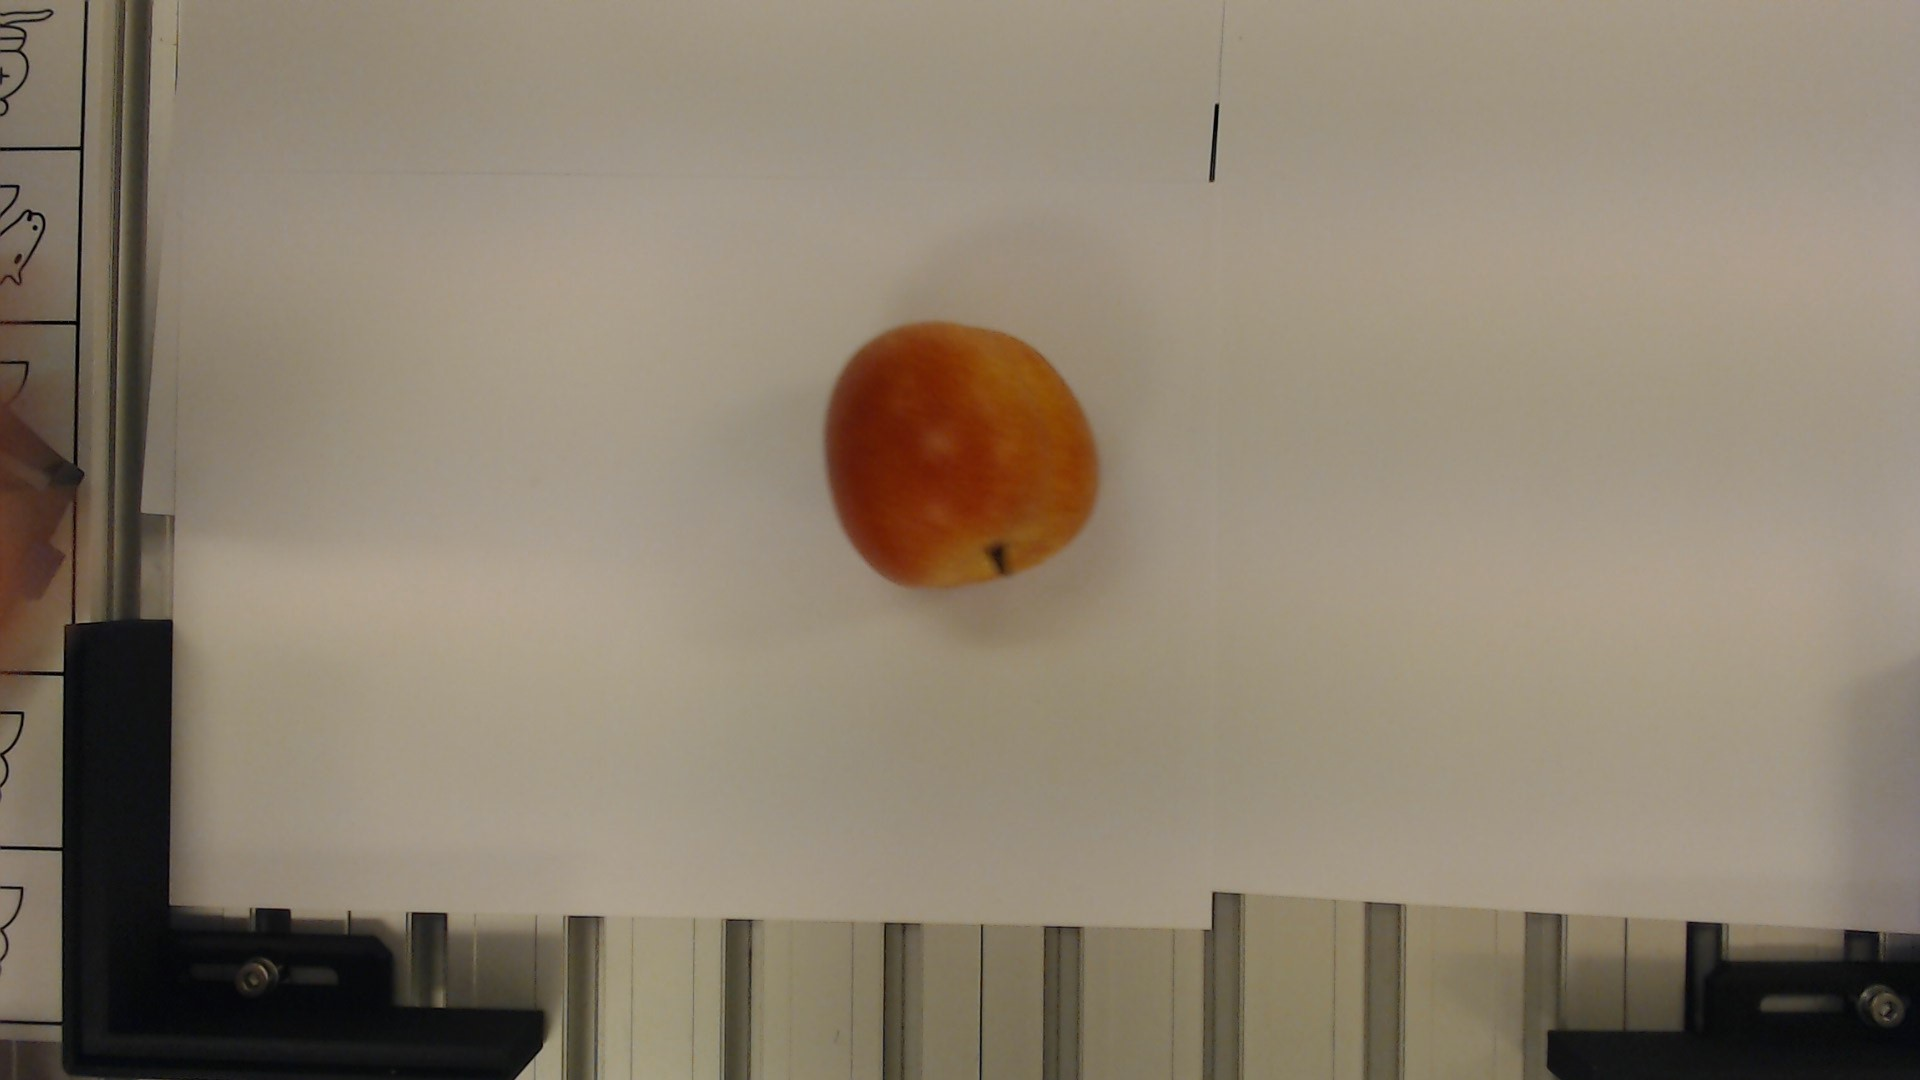Peach: (818, 320, 1109, 600)
